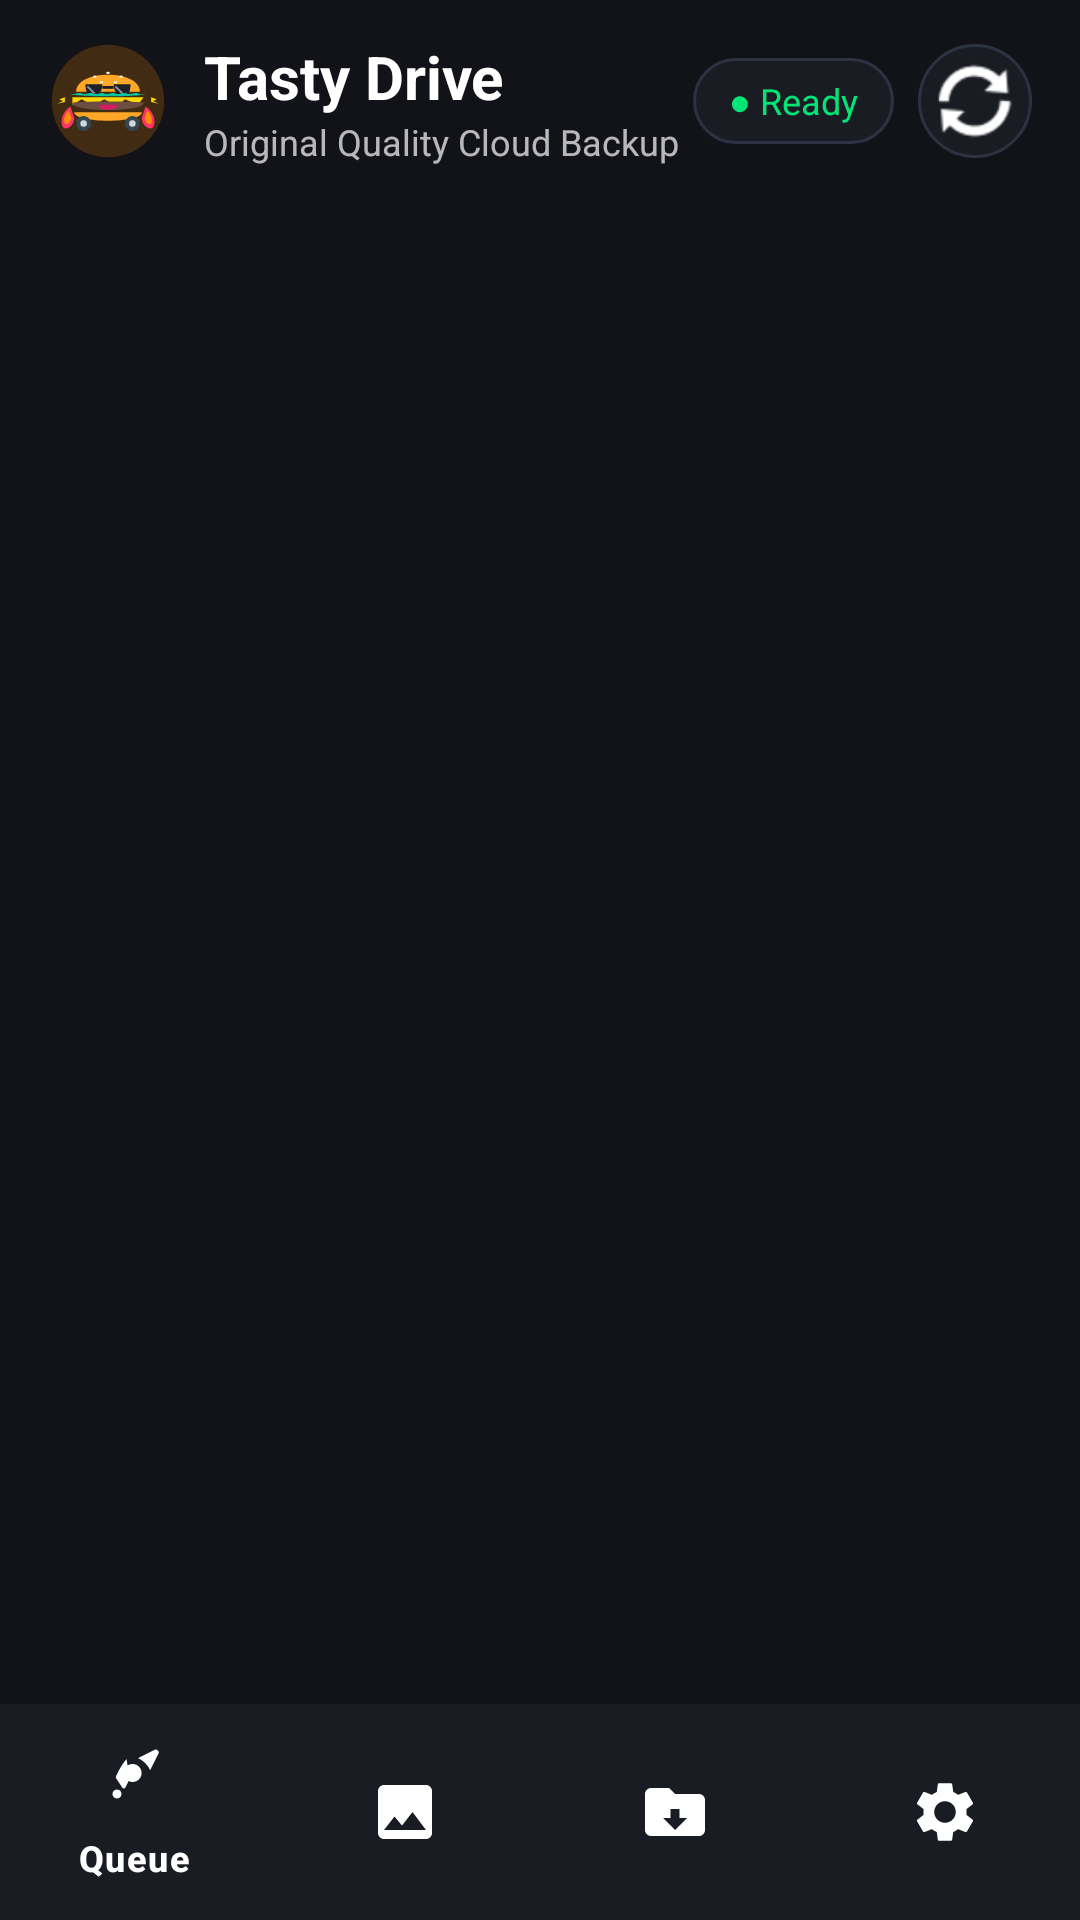

Screen size 1080x1920. Icon name, then its center in pixels as (x=x, y=y):
Rescan media: (x=975, y=101)
